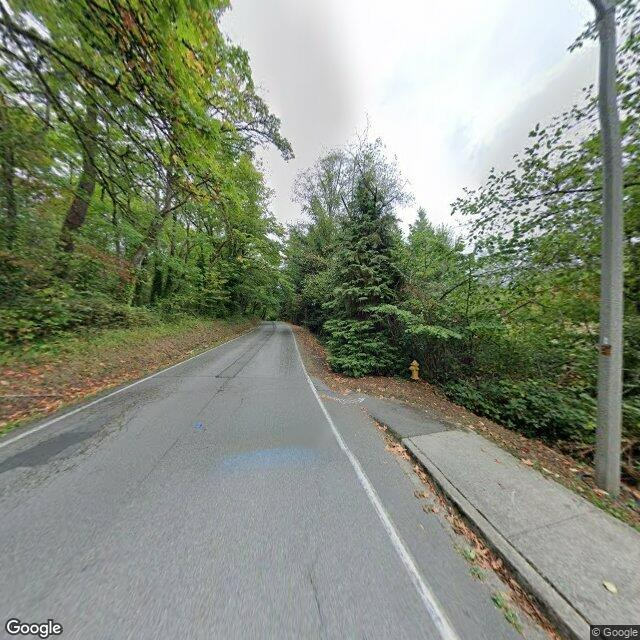hydrant: (407, 357, 422, 383)
